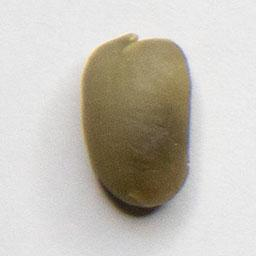peaberry: (76, 29, 197, 214)
